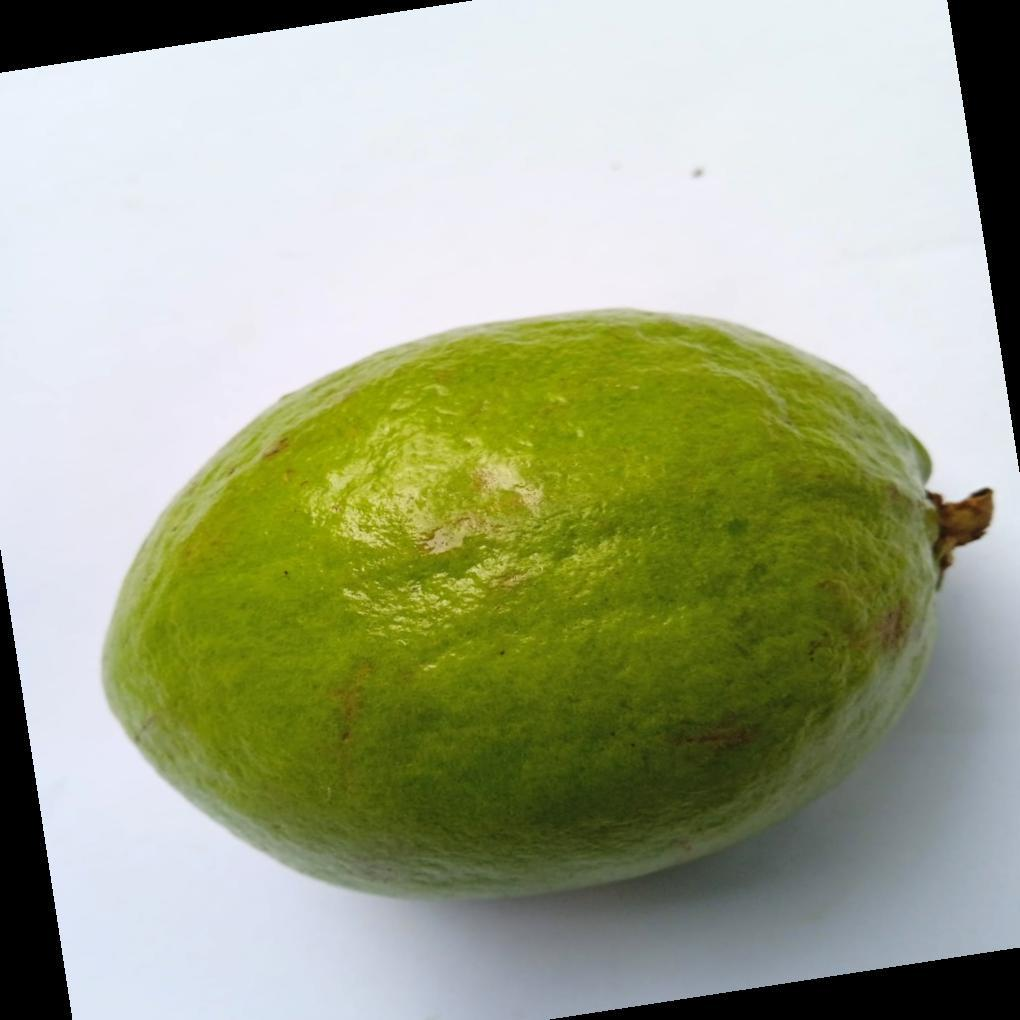FreshGuava: (98, 309, 954, 907)
